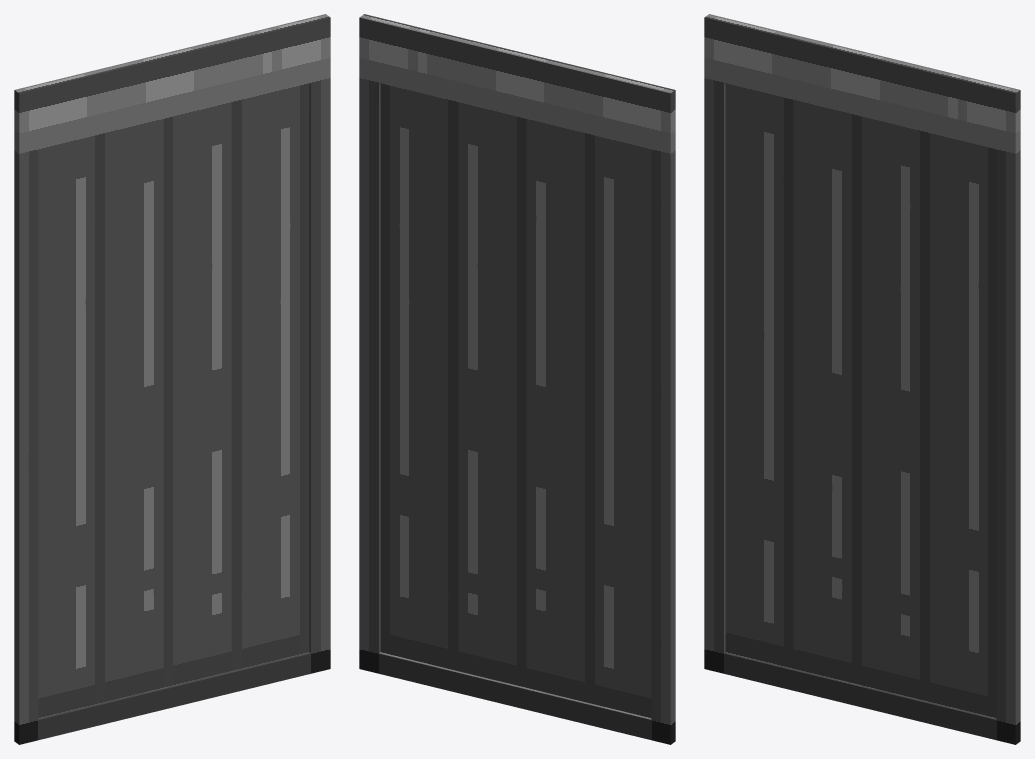
The model's file is plastic_flaps_standard.glb.
The picture shows the model from 3 angles, left to right: view 1: azimuth 30°, elevation 25°; view 2: azimuth 150°, elevation 25°; view 3: azimuth 330°, elevation 25°; orthographic projection.
Parts seen in each view (by area): view 1: Mounting_Frame, Hinged_Strip_4, Hinged_Strip_3, Hinged_Strip_1, Hinged_Strip_2; view 2: Mounting_Frame, Hinged_Strip_4, Hinged_Strip_3, Hinged_Strip_1, Hinged_Strip_2; view 3: Mounting_Frame, Hinged_Strip_4, Hinged_Strip_1, Hinged_Strip_3, Hinged_Strip_2.
Part boxes in pixels (x1,y1,x2,y2): Mounting_Frame: [14, 14, 330, 744]; Hinged_Strip_4: [231, 84, 309, 670]; Hinged_Strip_3: [163, 103, 231, 687]; Hinged_Strip_1: [38, 133, 105, 717]; Hinged_Strip_2: [105, 119, 163, 701]; Mounting_Frame: [359, 14, 675, 744]; Hinged_Strip_4: [380, 84, 458, 670]; Hinged_Strip_3: [458, 103, 526, 687]; Hinged_Strip_1: [584, 133, 651, 717]; Hinged_Strip_2: [526, 119, 584, 701]; Mounting_Frame: [704, 14, 1020, 744]; Hinged_Strip_4: [920, 131, 996, 717]; Hinged_Strip_1: [725, 84, 793, 668]; Hinged_Strip_3: [852, 114, 919, 699]; Hinged_Strip_2: [793, 100, 851, 682].
Bounding box in the file's own units: 0.9 × 1.8 × 0.024.
Materials: 2 (2 with a texture image).
